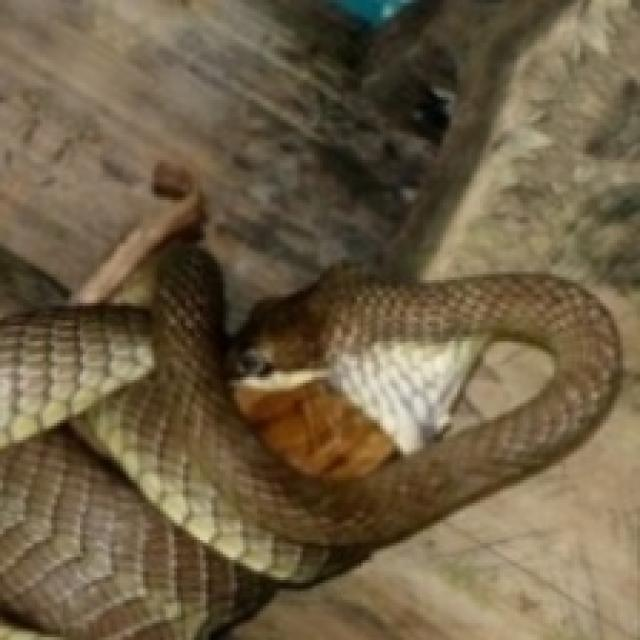paradise tree snake: (0, 240, 620, 637), (466, 337, 554, 417)
